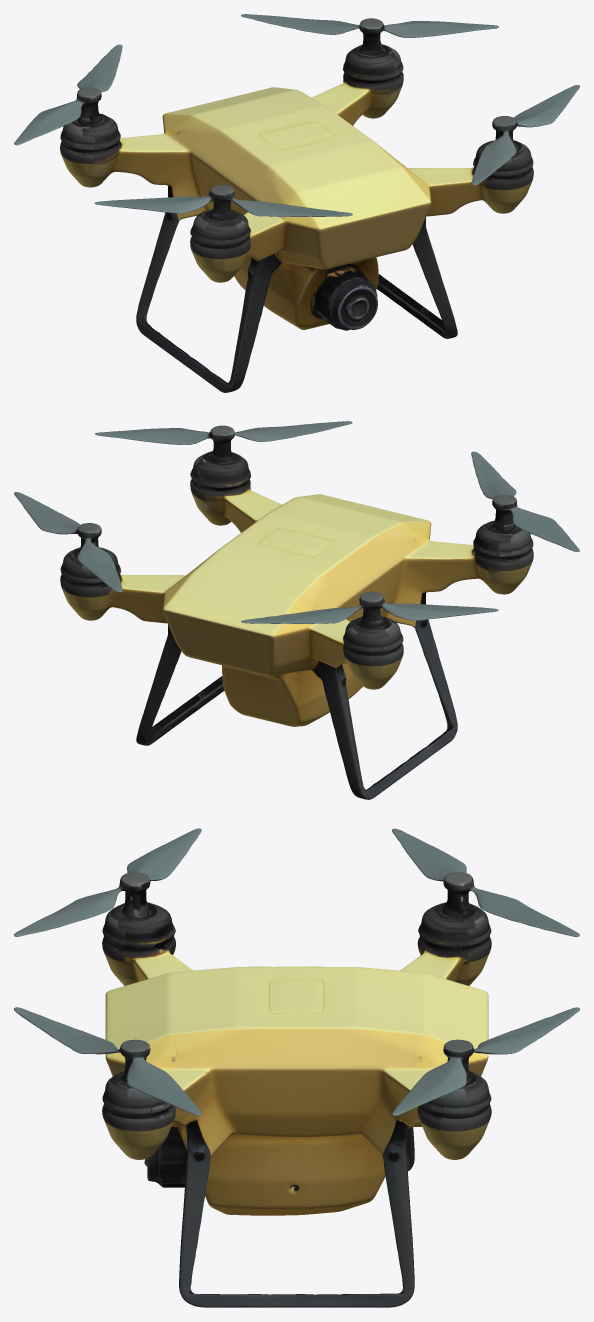
Rendered from Space-drone.fbx.
3 views of the same model, one above another, from view 1: azimuth 30°, elevation 25°; view 2: azimuth 150°, elevation 25°; view 3: azimuth 270°, elevation 25° (orthographic). The views are drawn at different scales.
Parts seen in each view (by area): view 1: Space-drone; view 2: Space-drone; view 3: Space-drone.
Part boxes in pixels (x1,y1,x2,y2): Space-drone: [14, 14, 579, 392]; Space-drone: [14, 421, 579, 799]; Space-drone: [14, 828, 579, 1307].
Size of the model in its own units: 189 by 85.65 by 157.
